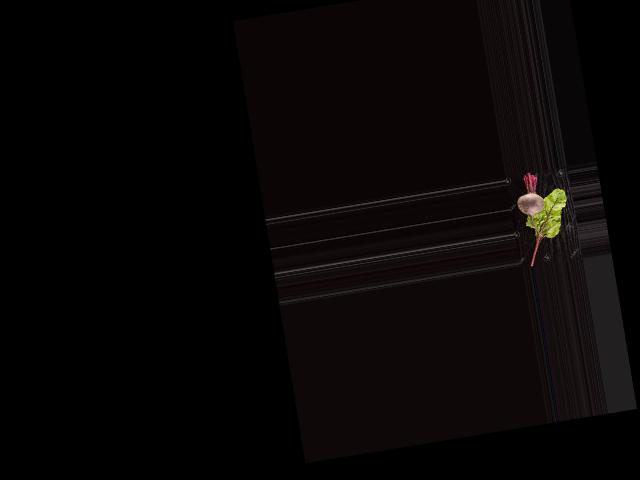beet: (512, 170, 549, 241)
